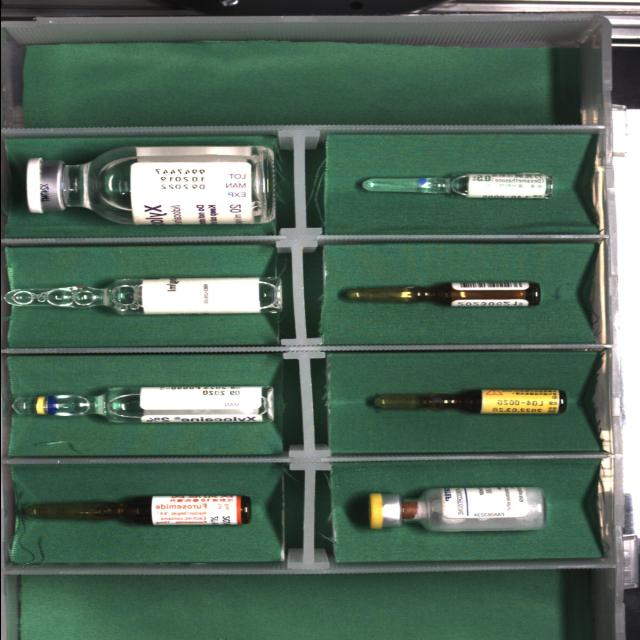Vials: (26, 147, 270, 224), (368, 487, 543, 531)
